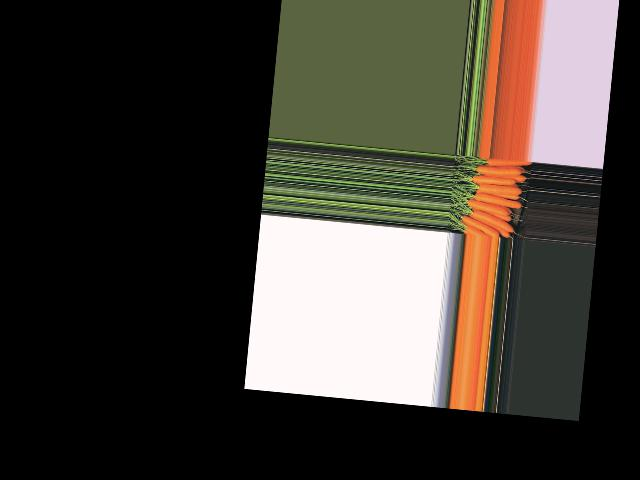carrot: (461, 219, 504, 232)
